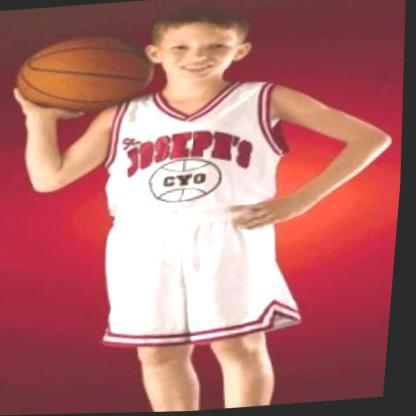basketball: (23, 38, 145, 115)
